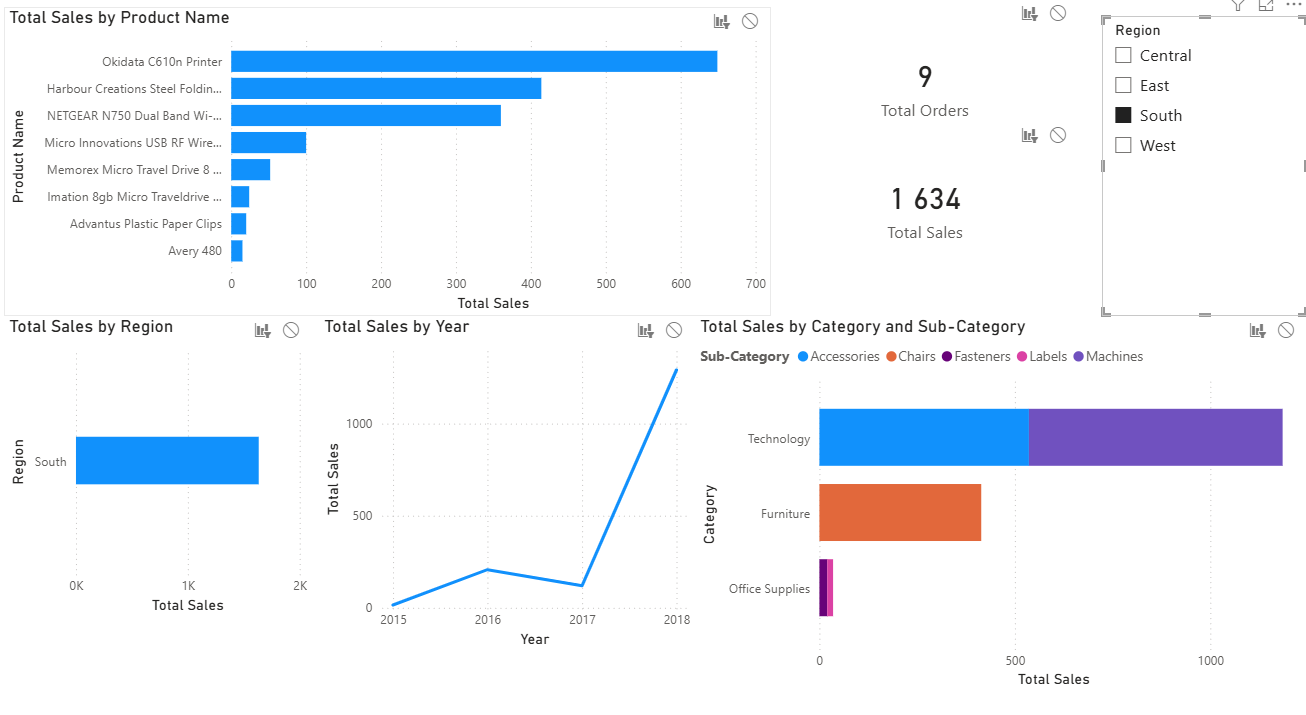

This screenshot's page, from the dashboard's own definition file:
{"tool":"powerbi","page":{"name":"Page 1","canvas":[1280,720],"ordinal":0},"visuals":[{"type":"card","fields":{"Values":["train (2).Total Orders"]},"box":[758.7,29.2,299.6,118.7],"z":0},{"type":"card","fields":{"Values":["train (2).Total Revenue"]},"box":[758.7,147.8,299.6,118.7],"z":1000},{"type":"lineChart","fields":{"Category":["train (2).Order Date.Variation.Date Hierarchy.Year","train (2).Order Date.Variation.Date Hierarchy.Quarter","train (2).Order Date.Variation.Date Hierarchy.Month","train (2).Order Date.Variation.Date Hierarchy.Day"],"Y":["train (2).Total Revenue"]},"box":[319,313.2,365.7,326.8],"z":2000},{"type":"barChart","fields":{"Category":["train (2).Region"],"Y":["train (2).Total Revenue"]},"box":[12.6,313.2,299.6,293.7],"z":3000},{"type":"barChart","fields":{"Category":["train (2).Product Name"],"Y":["train (2).Total Revenue"]},"box":[12.6,12.6,746,300.5],"z":4000},{"type":"slicer","fields":{"Values":["train (2).Region"]},"box":[1080.6,21.4,199.4,291.8],"z":5000},{"type":"barChart","fields":{"Category":["train (2).Category"],"Y":["train (2).Total Revenue"],"Series":["train (2).Sub-Category"]},"box":[684.7,313.2,595.3,366.7],"z":6000}]}

Visuals, with their boxes on the page's 1280x720 design canvas (x1, y1, x2, y2). These are canvas units, not pixel positions in the 1306x715 screenshot, which may show the page scaled, cropped or inside an application window:
card - train (2).Total Orders: l=759, t=29, r=1058, b=148
card - train (2).Total Revenue: l=759, t=148, r=1058, b=266
lineChart - train (2).Order Date.Variation.Date Hierarchy.Year x train (2).Order Date.Variation.Date Hierarchy.Quarter: l=319, t=313, r=685, b=640
barChart - train (2).Region x train (2).Total Revenue: l=13, t=313, r=312, b=607
barChart - train (2).Product Name x train (2).Total Revenue: l=13, t=13, r=759, b=313
slicer - train (2).Region: l=1081, t=21, r=1280, b=313
barChart - train (2).Category x train (2).Total Revenue: l=685, t=313, r=1280, b=680
